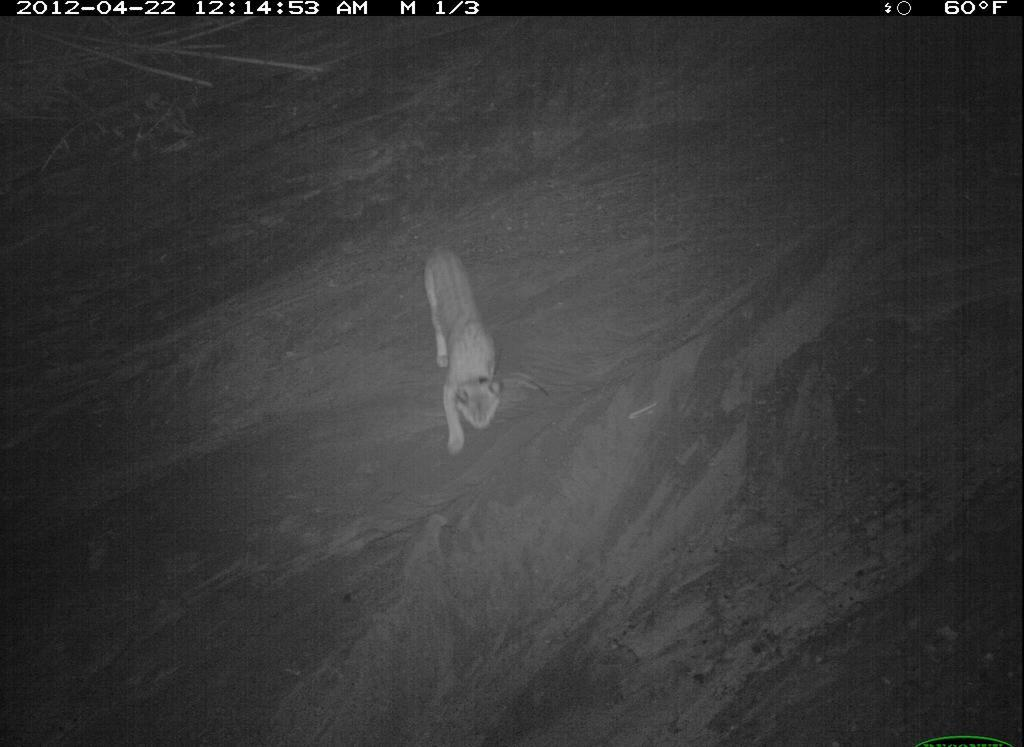bobcat: (834, 476, 1016, 747)
